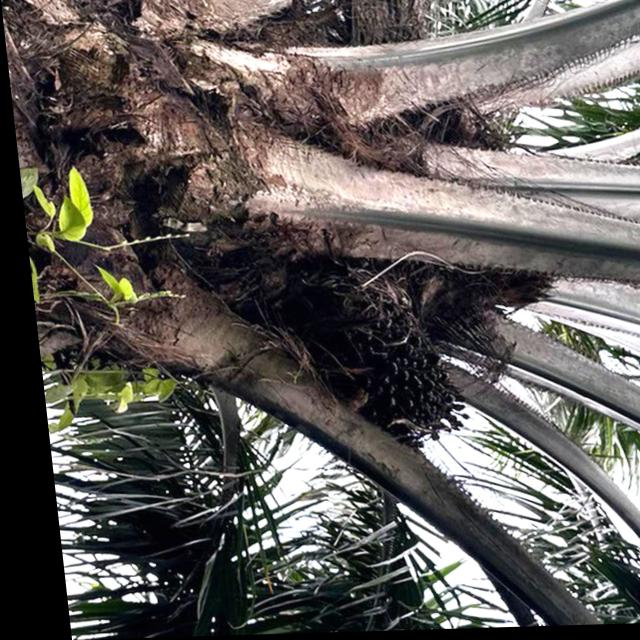almost: (293, 294, 473, 456)
